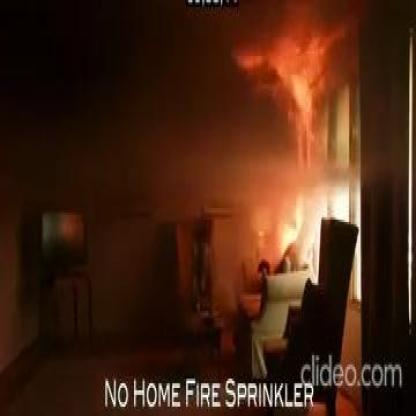fire: (265, 40, 319, 131), (276, 224, 299, 255), (295, 196, 311, 232)
